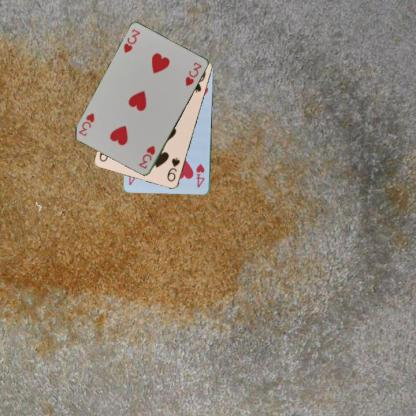3h: (121, 27, 142, 54), (136, 144, 157, 170)
4h: (194, 161, 206, 189)
9s: (165, 156, 182, 183)
